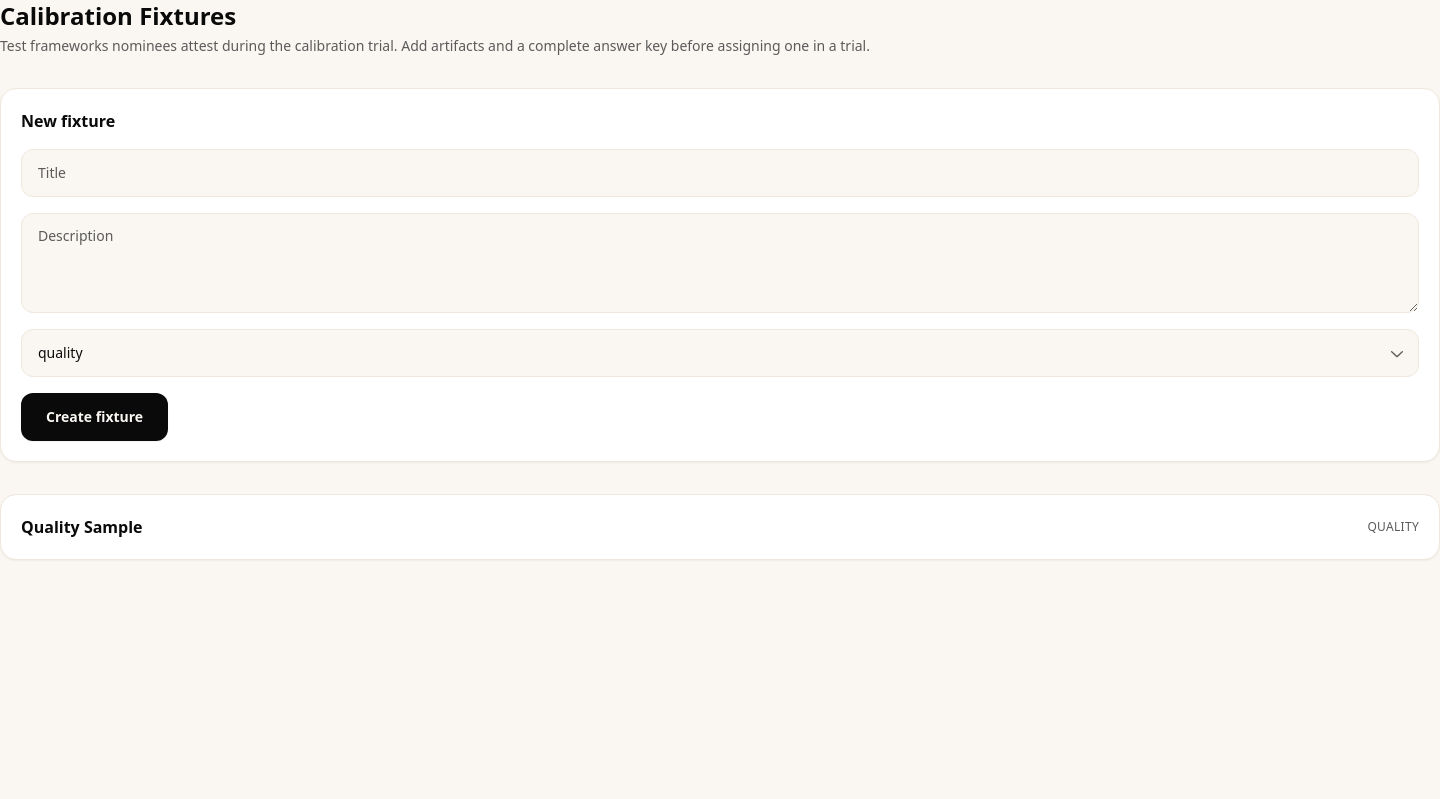
AdminCalibrationFixturesPanel › expands a fixture showing artifacts, scan status, and readiness
Expected: the text "Quality Sample" is shown, left=21, top=515, right=142, bottom=539
Click the button "Quality Sample quality": (82, 527) left=21, top=515, right=1419, bottom=539
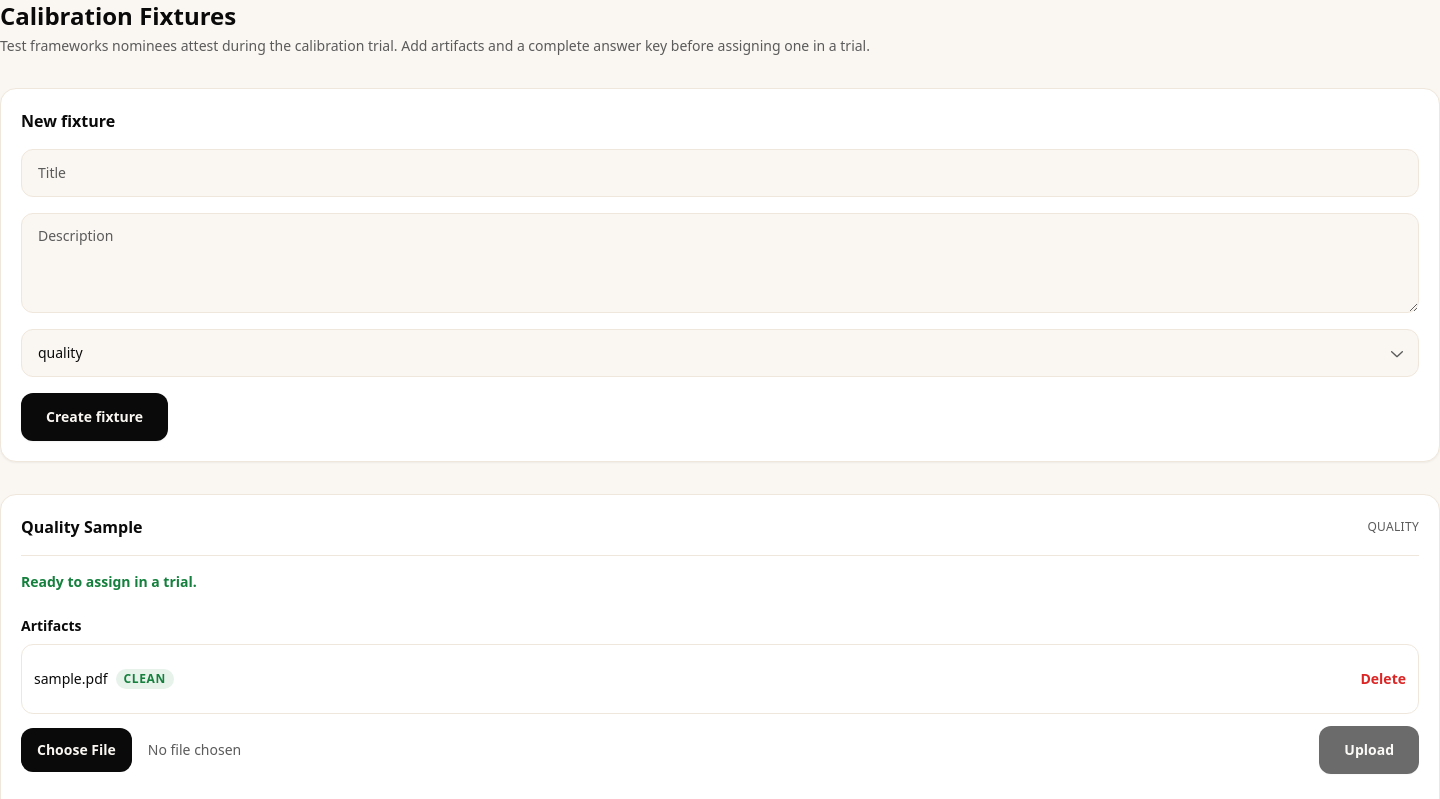
Result: the text "sample.pdf clean" is shown at left=34, top=669, right=174, bottom=689
Result: the text "clean" is shown at left=116, top=669, right=174, bottom=689
Result: the text "Ready to assign in a trial." is shown at left=21, top=572, right=197, bottom=591
